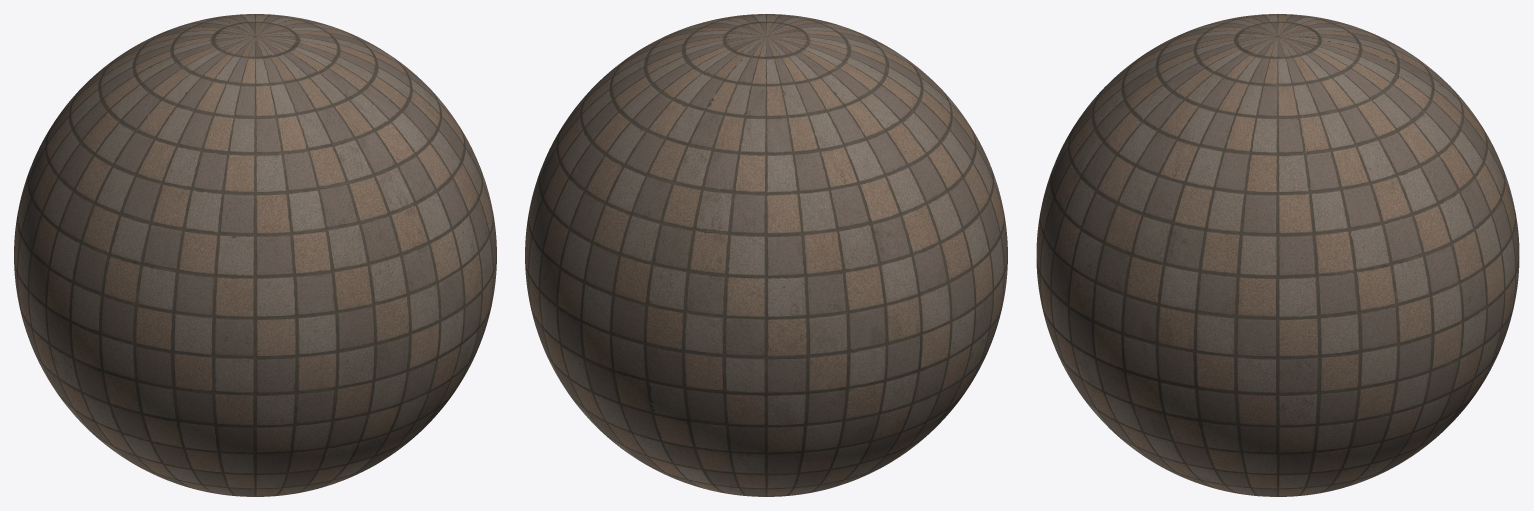
Rendered from square_tiles_03_2k.gltf.
3 renders of one model, left to right at view 1: azimuth 30°, elevation 25°; view 2: azimuth 150°, elevation 25°; view 3: azimuth 270°, elevation 25°, orthographic.
Visible parts, largest first — view 1: sphere_gltf; view 2: sphere_gltf; view 3: sphere_gltf.
Boxes of the visible parts, bbox=[...] form: sphere_gltf: bbox=[14, 14, 496, 496]; sphere_gltf: bbox=[525, 14, 1007, 496]; sphere_gltf: bbox=[1036, 14, 1519, 496].
Size of the model in its own units: 2 by 2 by 2.
1 material, 1 textured.
